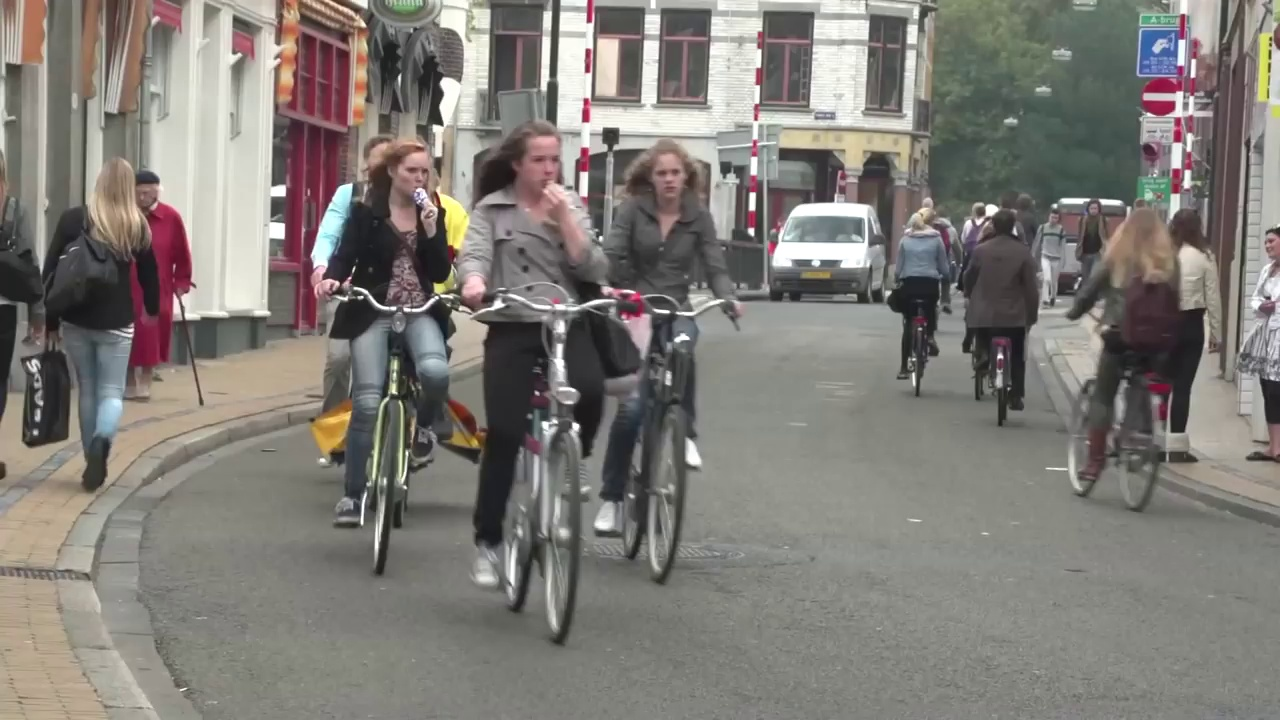cyclist_back: (1063, 198, 1180, 519), (970, 207, 1040, 435), (887, 208, 950, 406)
cyclist_front: (456, 109, 635, 645), (595, 137, 745, 573), (316, 139, 452, 579)
